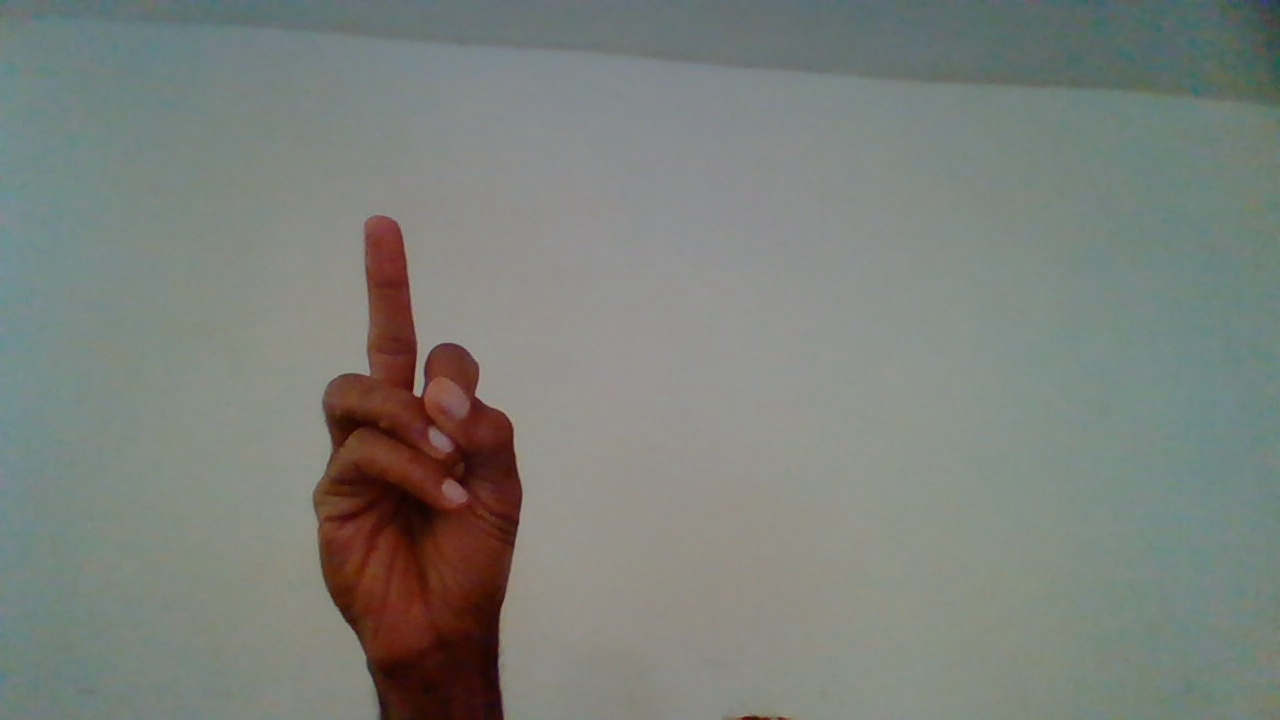he: (309, 214, 529, 711)
